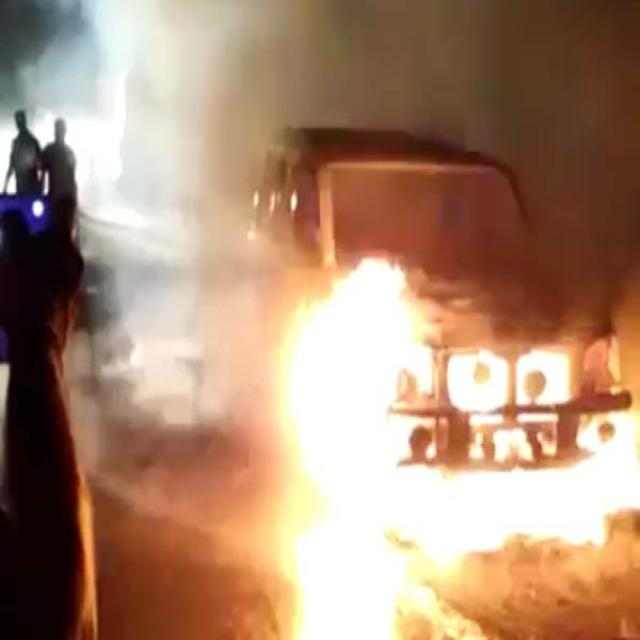fire: (280, 256, 435, 640), (435, 411, 640, 577), (446, 349, 509, 411), (515, 349, 570, 406)
